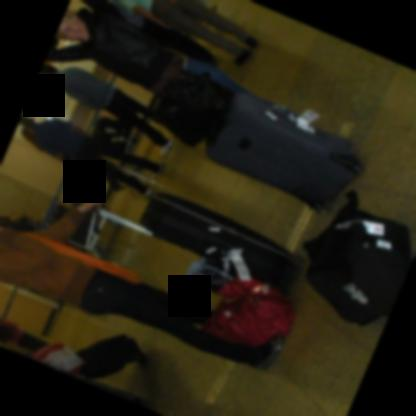backpack: (301, 189, 412, 325), (198, 276, 295, 347)
handbag: (300, 189, 412, 328), (145, 61, 234, 148)
suitcase: (201, 91, 363, 214), (138, 191, 294, 288), (70, 330, 143, 377)
